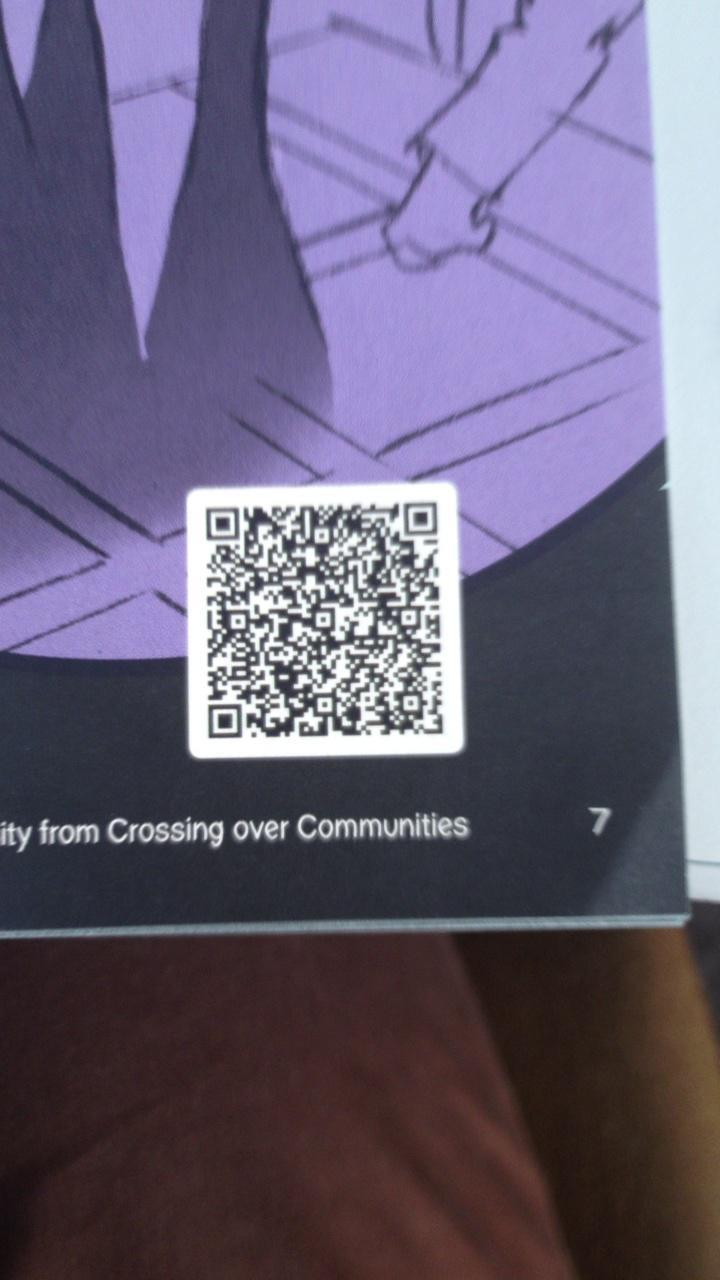qr_code: (204, 502, 444, 738)
